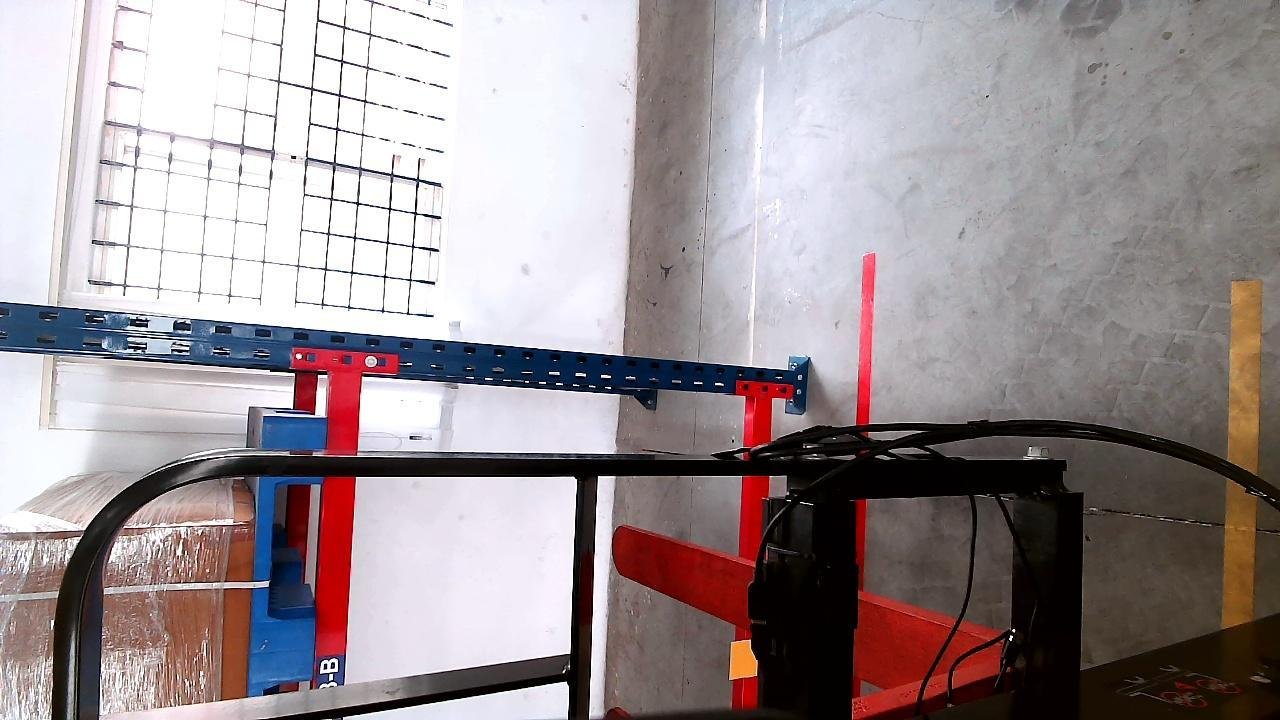red_line: (854, 254, 876, 433)
yellow_line: (1223, 279, 1261, 626)
